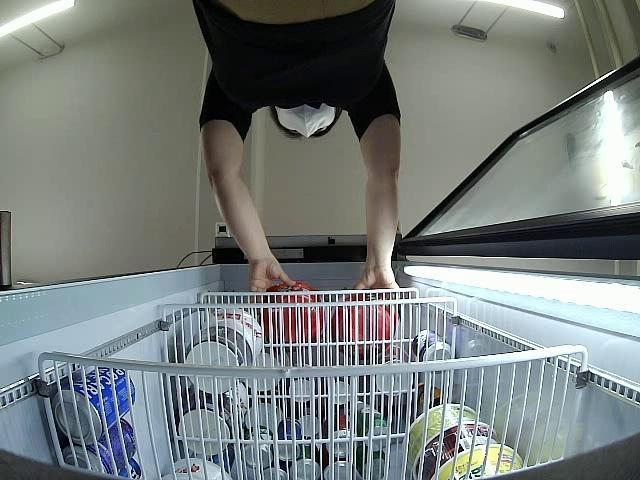10_wangTtukkeong: (332, 295, 396, 356), (264, 284, 323, 342)
